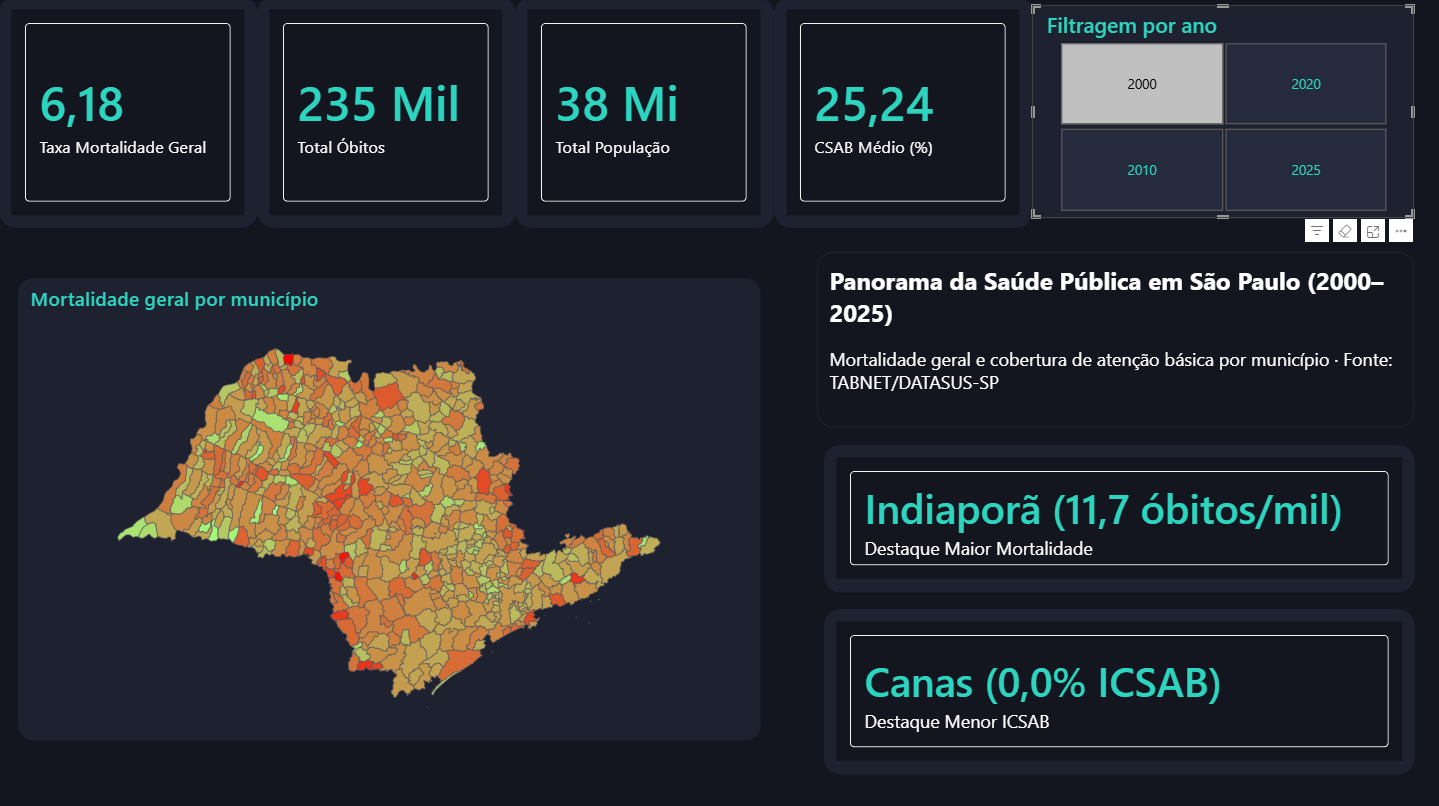

Layout of this report page (visuals, bound fields, positions):
{"tool":"powerbi","page":{"name":"Visão Geral","canvas":[1280,720],"ordinal":0},"visuals":[{"type":"cardVisual","fields":{"Data":["dataset_final_projeto_saude_sp_BR_1.Taxa Mortalidade Geral"]},"box":[0,0,229.5,205.2],"z":0},{"type":"cardVisual","fields":{"Data":["dataset_final_projeto_saude_sp_BR_1.Total Óbitos"]},"box":[229.5,0,229.5,205.2],"z":1000},{"type":"cardVisual","fields":{"Data":["dataset_final_projeto_saude_sp_BR_1.Total População"]},"box":[459.1,0,229.5,205.2],"z":2000},{"type":"cardVisual","fields":{"Data":["dataset_final_projeto_saude_sp_BR_1.CSAB Médio (%)"]},"box":[688.6,0,229.5,205.2],"z":3000},{"type":"slicer","title":"Filtragem por ano","fields":{"Values":["dataset_final_projeto_saude_sp_BR_1.ano"]},"box":[918.2,7.1,339.5,189.7],"z":4000},{"type":"shapeMap","title":"Mortalidade geral por município","fields":{"Category":["dataset_final_projeto_saude_sp_BR_1.municipio_mapa"],"Value":["Sum(dataset_final_projeto_saude_sp_BR_1.taxa_mortalidade_por_mil)"]},"box":[16.9,249.8,659.6,410.7],"z":5000},{"type":"textbox","box":[727.1,226.7,530.7,156.4],"z":6000},{"type":"cardVisual","fields":{"Data":["dataset_final_projeto_saude_sp_BR_1.Destaque Maior Mortalidade"]},"box":[733.3,398.2,525,130.7],"z":7000},{"type":"cardVisual","fields":{"Data":["dataset_final_projeto_saude_sp_BR_1.Destaque Menor ICSAB"]},"box":[733.3,544,525,146.7],"z":8000}]}

Visuals, with their boxes in screenshot pixels (x1, y1, x2, y2), scaled from the page's 1280x720 canvas onto the 1439x806 screenshot:
cardVisual - dataset_final_projeto_saude_sp_BR_1.Taxa Mortalidade Geral: l=0, t=0, r=258, b=230
cardVisual - dataset_final_projeto_saude_sp_BR_1.Total Óbitos: l=258, t=0, r=516, b=230
cardVisual - dataset_final_projeto_saude_sp_BR_1.Total População: l=516, t=0, r=774, b=230
cardVisual - dataset_final_projeto_saude_sp_BR_1.CSAB Médio (%): l=774, t=0, r=1032, b=230
"Filtragem por ano" slicer: l=1032, t=8, r=1414, b=220
"Mortalidade geral por município" shapeMap: l=19, t=280, r=761, b=739
textbox: l=817, t=254, r=1414, b=429
cardVisual - dataset_final_projeto_saude_sp_BR_1.Destaque Maior Mortalidade: l=824, t=446, r=1415, b=592
cardVisual - dataset_final_projeto_saude_sp_BR_1.Destaque Menor ICSAB: l=824, t=609, r=1415, b=773
